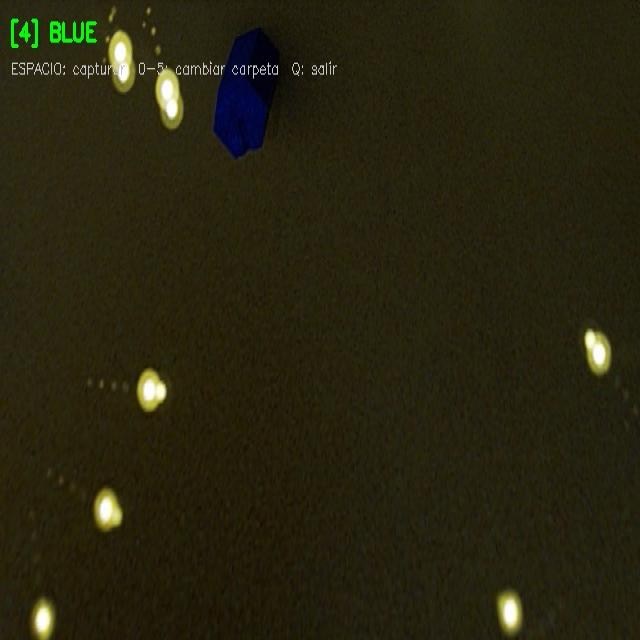blue: (210, 25, 281, 163)
